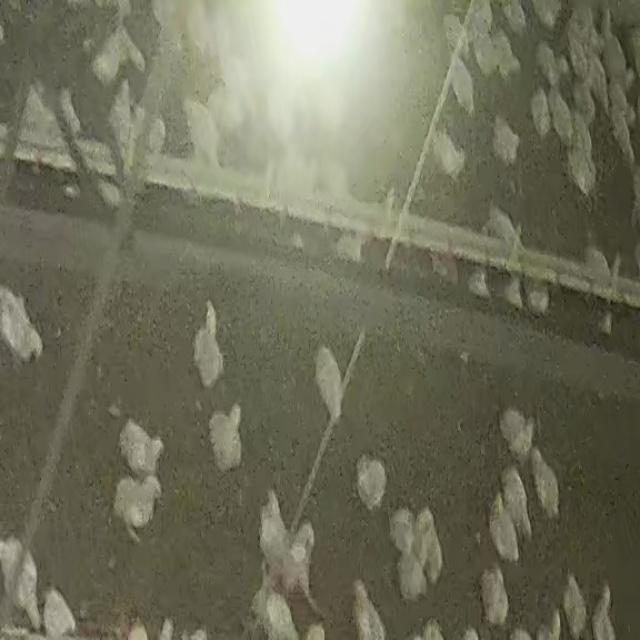chicken: (388, 502, 442, 602), (0, 533, 42, 632), (112, 473, 162, 542), (90, 26, 144, 86), (0, 284, 43, 359), (251, 580, 302, 640), (192, 300, 226, 389), (118, 418, 166, 480), (259, 485, 289, 577), (292, 518, 321, 611), (207, 404, 245, 474), (108, 80, 140, 162), (482, 203, 524, 263), (528, 448, 561, 524), (502, 468, 536, 540), (601, 0, 632, 76), (314, 344, 345, 420), (485, 494, 518, 565), (568, 76, 601, 144), (351, 580, 388, 640), (486, 116, 521, 176), (498, 406, 535, 462), (182, 99, 215, 161), (479, 562, 510, 627), (355, 454, 388, 511), (79, 135, 120, 180), (429, 129, 464, 181), (42, 587, 78, 637), (205, 86, 239, 137), (562, 572, 588, 636), (585, 47, 611, 110), (570, 119, 590, 199), (532, 44, 569, 86), (580, 244, 612, 292), (590, 582, 616, 640), (464, 2, 495, 50), (389, 506, 417, 558), (607, 107, 632, 164), (527, 86, 551, 144), (446, 55, 470, 111), (564, 11, 584, 76), (495, 34, 517, 89), (334, 228, 365, 266), (501, 0, 536, 33), (611, 78, 635, 124), (471, 0, 506, 31), (550, 84, 569, 141), (442, 11, 465, 52), (529, 0, 563, 27), (95, 176, 123, 208), (471, 36, 493, 75), (146, 115, 166, 157), (570, 83, 592, 116), (541, 608, 561, 639)
